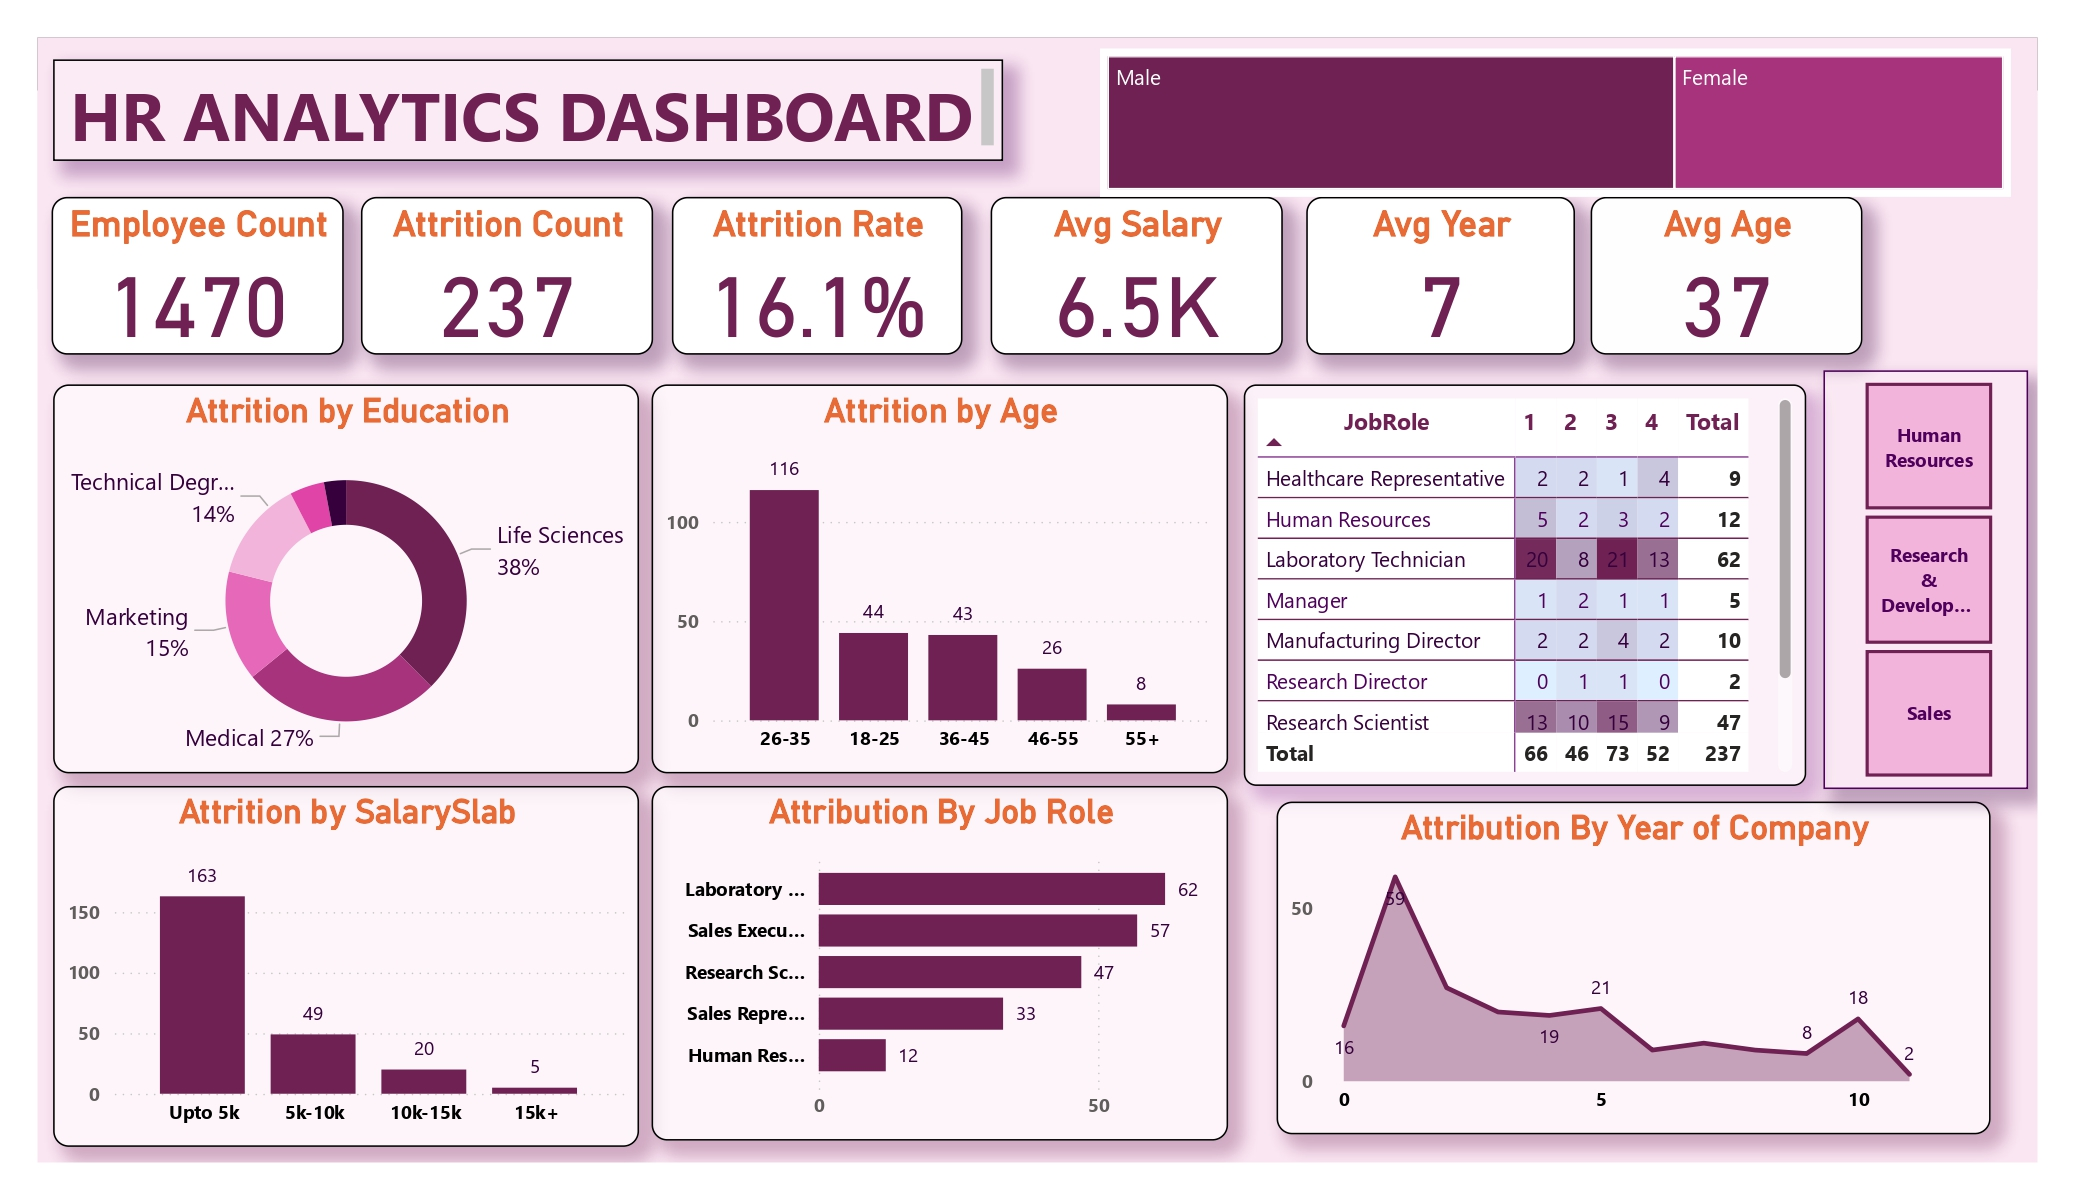

This screenshot's page, from the dashboard's own definition file:
{"tool":"powerbi","page":{"name":"Page 1","canvas":[1280,720],"ordinal":0},"visuals":[{"type":"card","title":"Employee Count","fields":{"Values":["Sum(HR_Analytics.EmployeeCount)"]},"box":[8.8,102.1,186.7,101.2],"z":0},{"type":"card","title":"Attrition Count","fields":{"Values":["Sum(HR_Analytics.AttritionCount)"]},"box":[207.2,102.1,186.7,101.2],"z":1000},{"type":"card","title":"Attrition Rate","fields":{"Values":["HR_Analytics.AttritionRate"]},"box":[405.6,102.1,186.7,101.2],"z":2000},{"type":"card","title":"Avg  Salary","fields":{"Values":["Avg(HR_Analytics.MonthlyIncome)"]},"box":[609.8,102.1,186.7,101.2],"z":3000},{"type":"card","title":"Avg Year","fields":{"Values":["Avg(HR_Analytics.YearsAtCompany)"]},"box":[812.2,102.1,172.2,101.2],"z":4000},{"type":"card","title":"Avg Age","fields":{"Values":["Avg(HR_Analytics.Age)"]},"box":[994,102,174,101],"z":5000},{"type":"donutChart","title":"Attrition by Education","fields":{"Category":["HR_Analytics.EducationField"],"Y":["Sum(HR_Analytics.AttritionCount)"]},"box":[9.7,221.8,375.4,249],"z":6000},{"type":"columnChart","title":"Attrition by Age","fields":{"Category":["HR_Analytics.AgeGroup"],"Y":["Sum(HR_Analytics.AttritionCount)"]},"box":[392.9,221.8,368.6,249],"z":7000},{"type":"pivotTable","fields":{"Values":["Sum(HR_Analytics.AttritionCount)"],"Rows":["HR_Analytics.JobRole"],"Columns":["HR_Analytics.JobSatisfaction"]},"box":[772,222,360,257],"z":8000},{"type":"columnChart","title":"Attrition by SalarySlab","fields":{"Category":["HR_Analytics.SalarySlab"],"Y":["Sum(HR_Analytics.AttritionCount)"]},"box":[9.7,478.5,375.4,231.5],"z":9000},{"type":"barChart","title":"Attribution By Job Role","fields":{"Y":["Sum(HR_Analytics.AttritionCount)"],"Category":["HR_Analytics.JobRole"]},"box":[392.9,478.5,368.6,227.6],"z":10000},{"type":"areaChart","title":"Attribution By Year of Company","fields":{"Y":["Sum(HR_Analytics.AttritionCount)"],"Category":["HR_Analytics.YearsAtCompany"]},"box":[792.7,489.2,457.1,213],"z":11000},{"type":"textbox","box":[9.7,13.6,607.9,65.2],"z":11001},{"type":"treemap","fields":{"Group":["HR_Analytics.Gender"],"Values":["Sum(HR_Analytics.AttritionCount)"]},"box":[679.9,6.8,583.6,95.3],"z":11002},{"type":"slicer","fields":{"Values":["HR_Analytics.Department"]},"box":[1143,213,131,268],"z":11003}]}

Visuals, with their boxes in screenshot pixels (x1, y1, x2, y2):
"Employee Count" card: (left=57, top=195, right=345, bottom=351)
"Attrition Count" card: (left=363, top=195, right=651, bottom=351)
"Attrition Rate" card: (left=669, top=195, right=957, bottom=351)
"Avg  Salary" card: (left=984, top=195, right=1271, bottom=351)
"Avg Year" card: (left=1296, top=195, right=1561, bottom=351)
"Avg Age" card: (left=1576, top=195, right=1844, bottom=351)
"Attrition by Education" donutChart: (left=58, top=380, right=637, bottom=764)
"Attrition by Age" columnChart: (left=649, top=380, right=1217, bottom=764)
pivotTable - Sum(HR_Analytics.AttritionCount) x HR_Analytics.JobRole: (left=1234, top=380, right=1789, bottom=776)
"Attrition by SalarySlab" columnChart: (left=58, top=776, right=637, bottom=1133)
"Attribution By Job Role" barChart: (left=649, top=776, right=1217, bottom=1127)
"Attribution By Year of Company" areaChart: (left=1266, top=792, right=1970, bottom=1121)
textbox: (left=58, top=59, right=996, bottom=159)
treemap - HR_Analytics.Gender x Sum(HR_Analytics.AttritionCount): (left=1092, top=48, right=1992, bottom=195)
slicer - HR_Analytics.Department: (left=1806, top=366, right=2008, bottom=780)
